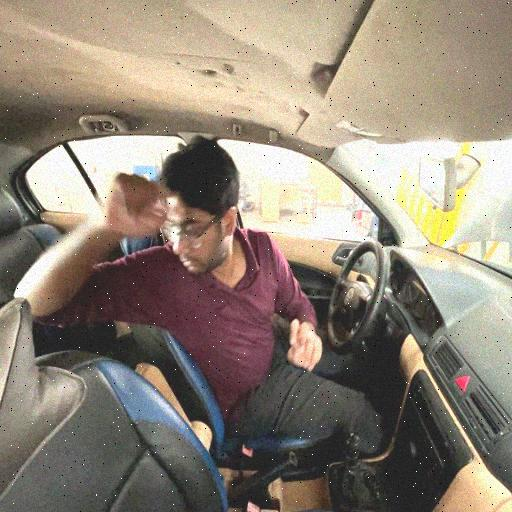Reaching_behind: (13, 136, 325, 438)
